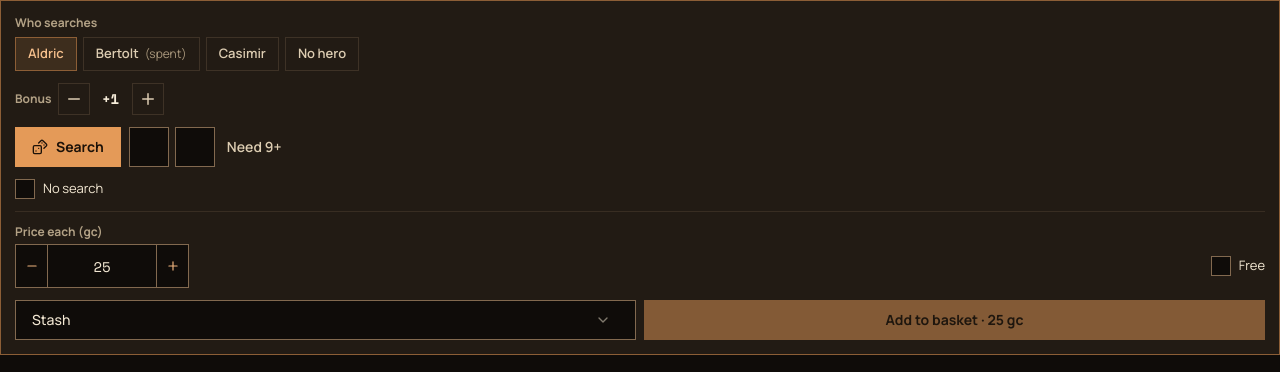
Test case: AcquireForm › starts the bonus on the variant's, and searches with the bonus as changed
Later steps or results of the test are not shown.
Expected: the text "+1" is shown, [102,88,119,109]
Click the button named "Raise the bonus".
click(148, 99)  # box [132,83,164,115]
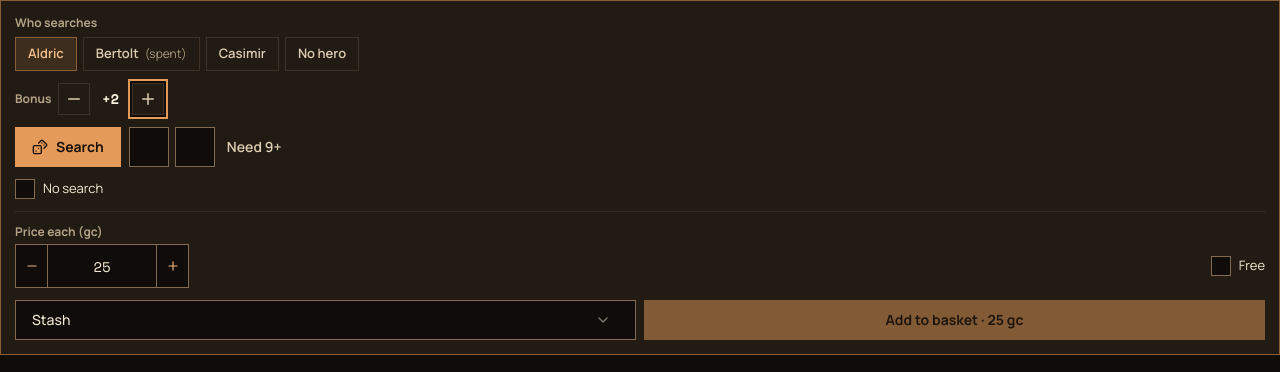
Now the text "+2" is shown, box [102,88,119,109]
